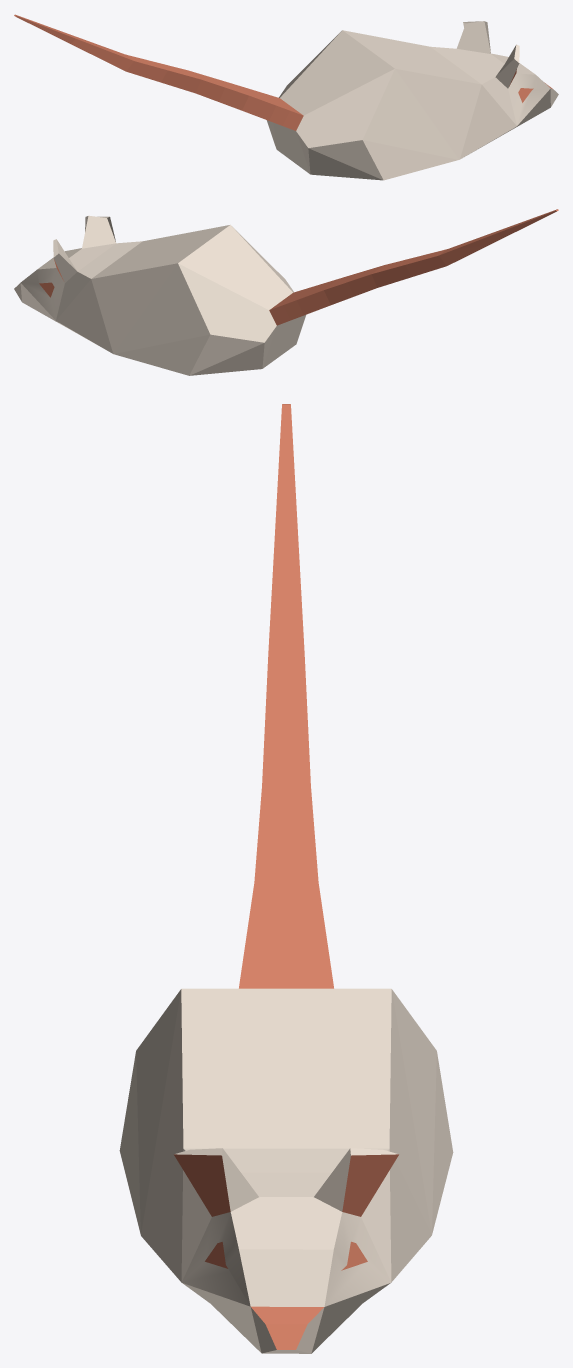
File: rat!.fbx
The picture shows the model from 3 angles, top to bottom: view 1: azimuth 30°, elevation 25°; view 2: azimuth 150°, elevation 25°; view 3: azimuth 270°, elevation 25°; orthographic projection. The views are drawn at different scales.
Parts seen in each view (by area): view 1: body; view 2: body; view 3: body.
Boxes of the visible parts, bbox=[...] form: body: bbox=[14, 14, 558, 180]; body: bbox=[14, 209, 558, 375]; body: bbox=[119, 404, 453, 1353].
Bounding box in the file's own units: 174 × 66.78 × 46.47.
